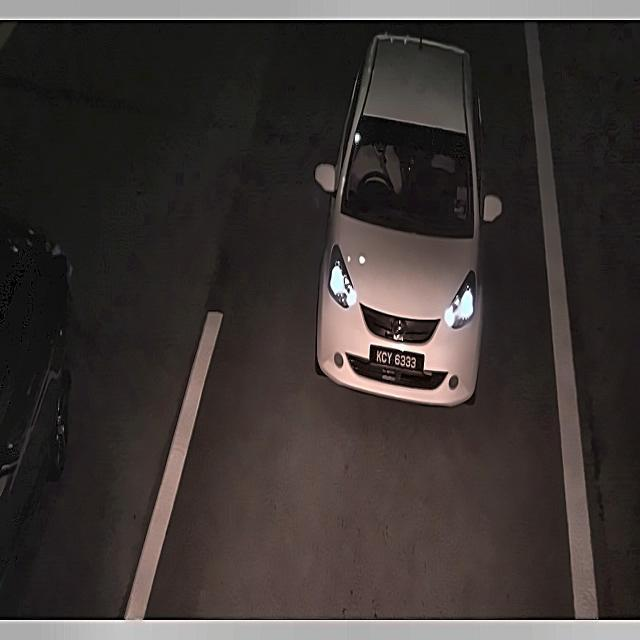car: (370, 338, 423, 377)
